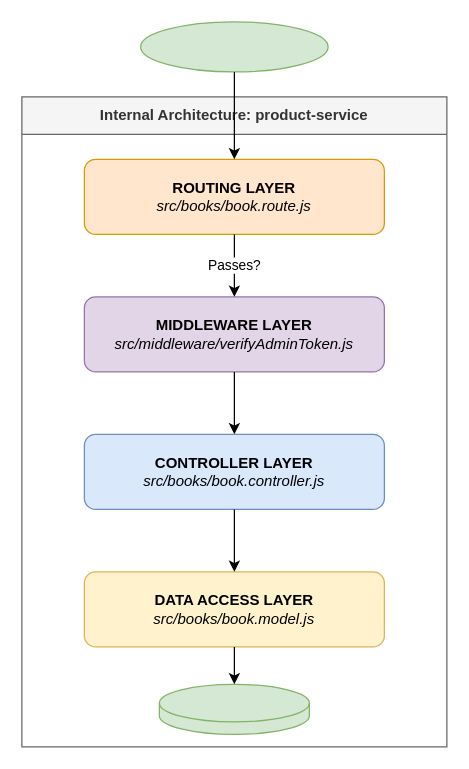
The diagram is 469 pixels wide and 769 high, and some of its shapes have lost their labels. Here are the shapes that lost their labels. From the top down, the centre of each, then its label:
(x=233, y=46): Incoming Request
(x=233, y=708): MongoDB Cluster
